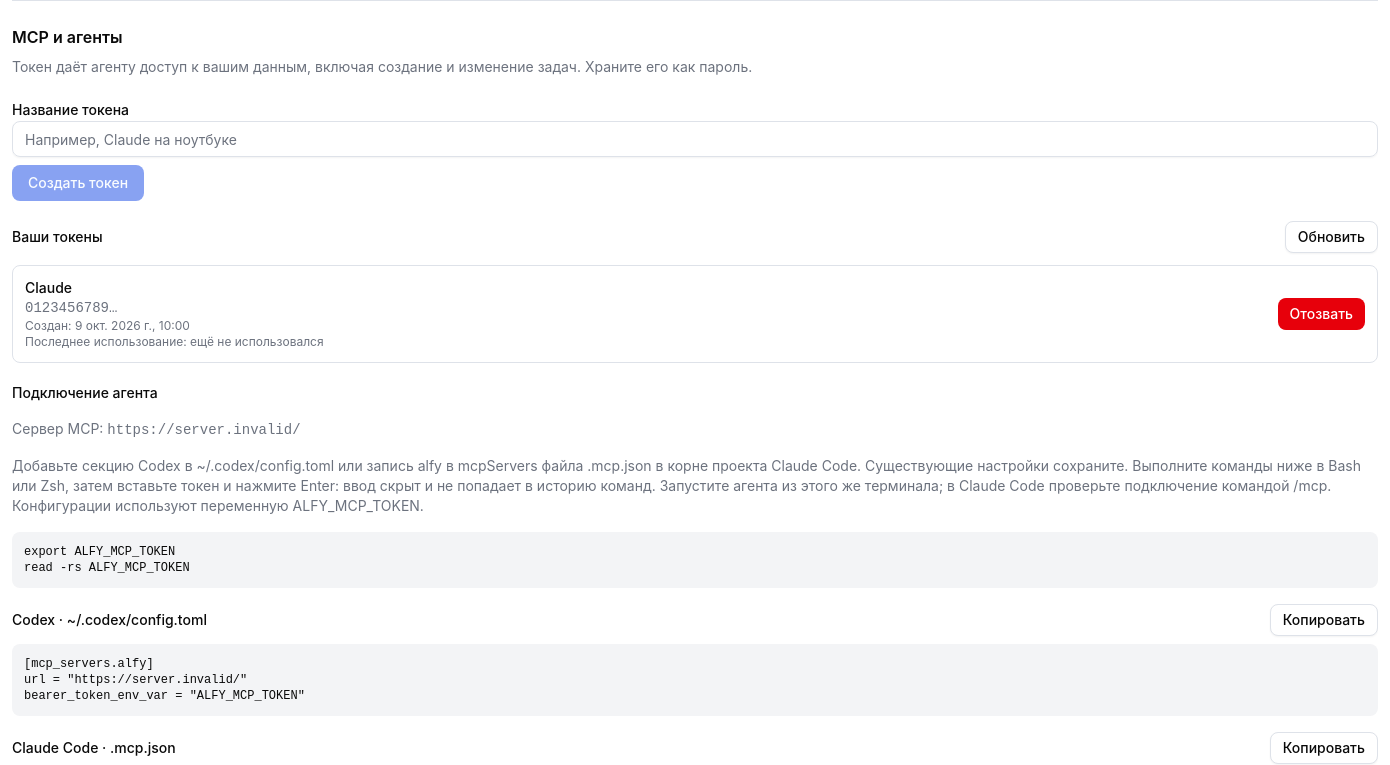
Test case: mCP в настройках › показывает ошибку отзыва и оставляет токен в списке
Click the button with test id "mcp-revoke-1": (1321, 314) [1278,298,1365,330]
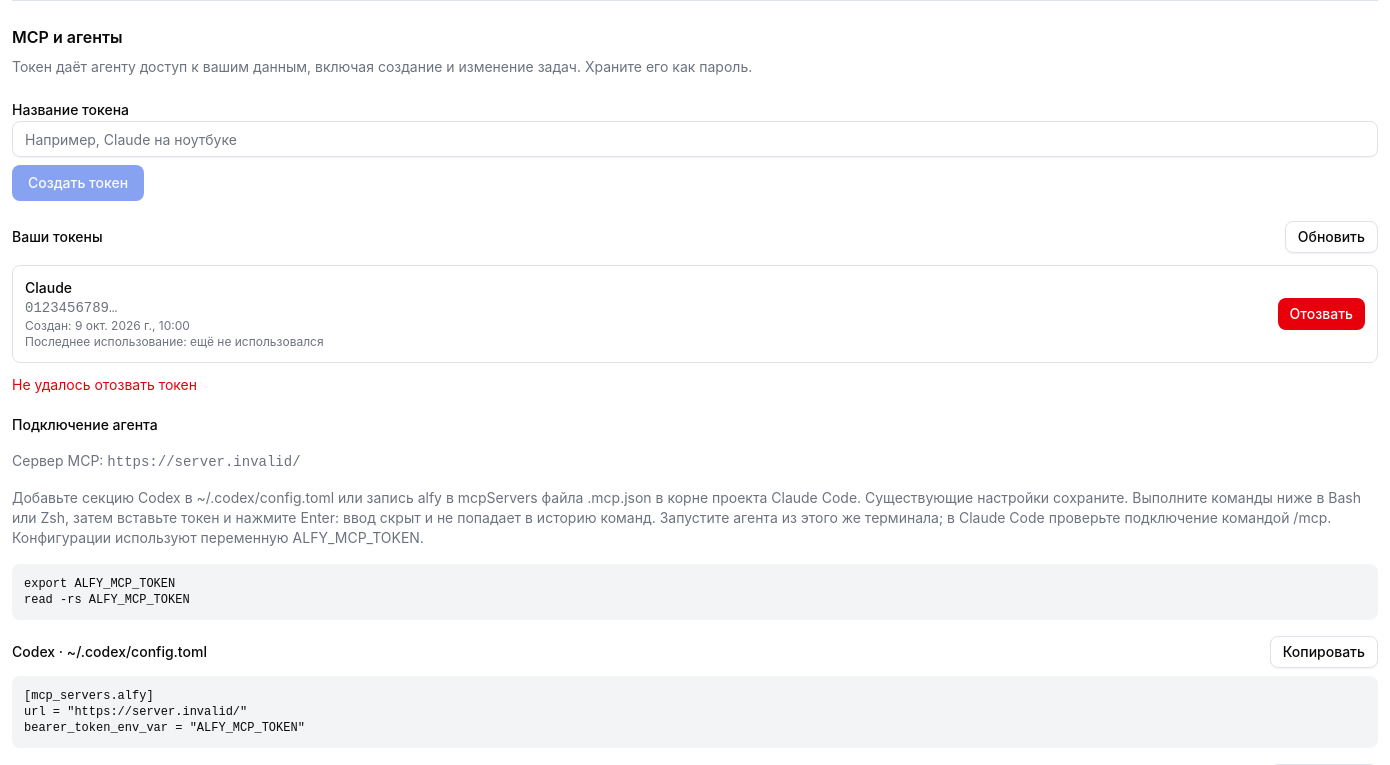
Check: the text "Не удалось отозвать токен" is shown, box [12,376,197,393]
